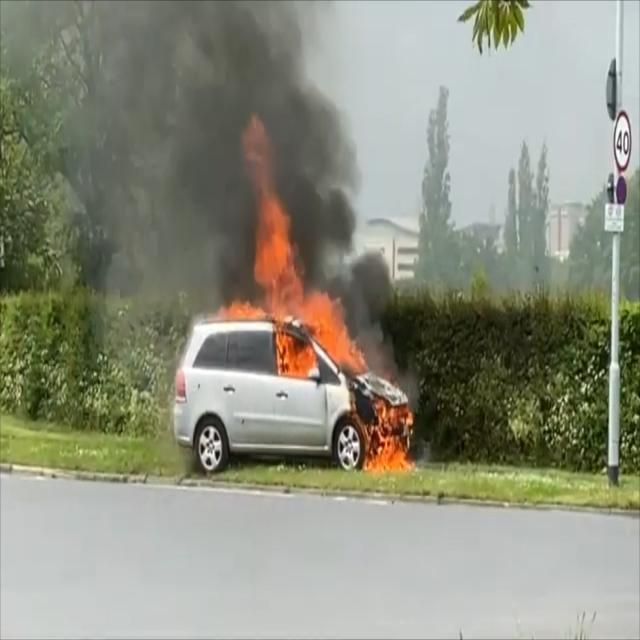fire: (212, 92, 418, 482)
